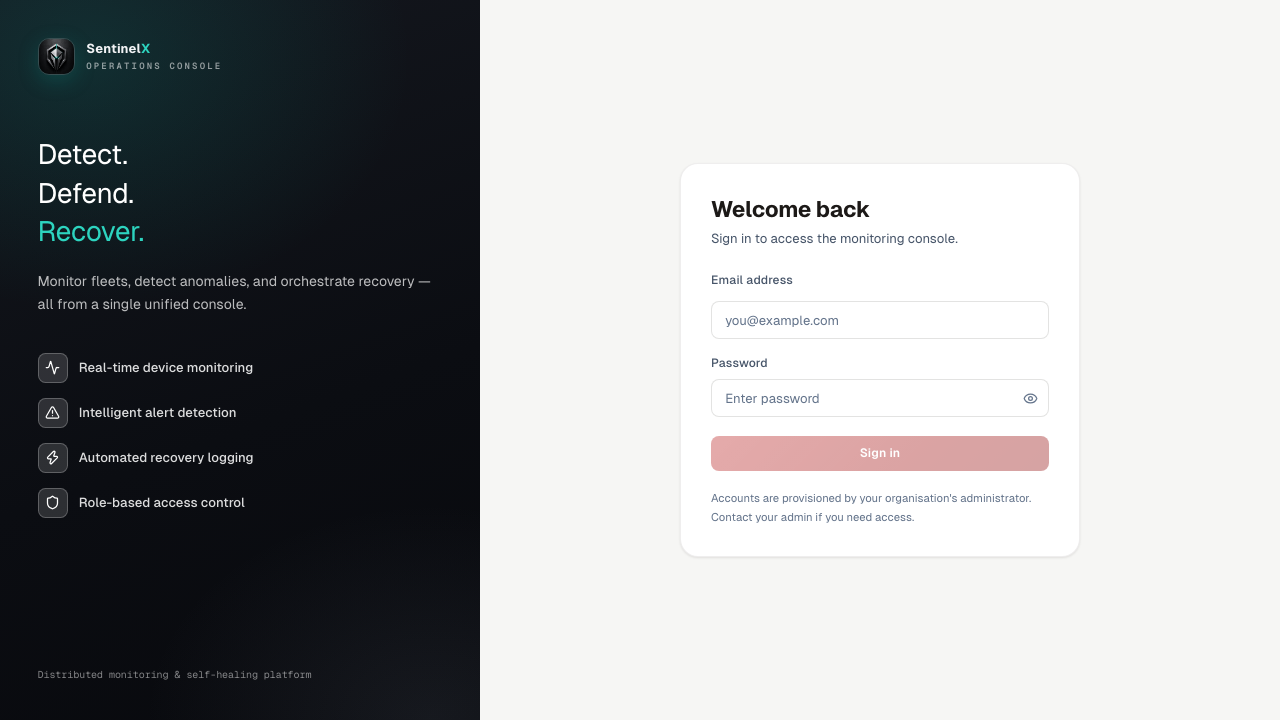
Test case: failure states › shows the server's reason for a rejected sign-in
Step 1. Type "ops@technova.io" into the field labelled "Email address" → coordinates (880, 320), box 711,302 -> 1049,340
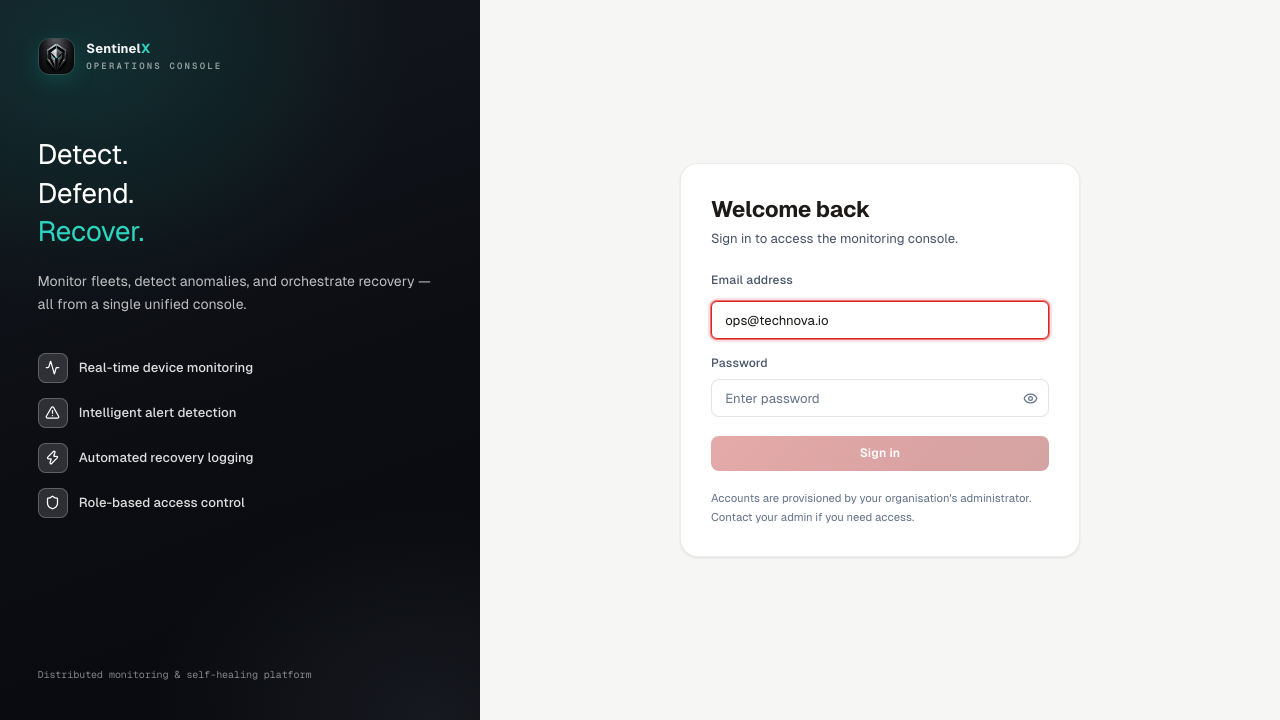
Step 2. Type "WrongPassword1!" into the password field labelled "Password" → coordinates (880, 398), box 711,379 -> 1049,417
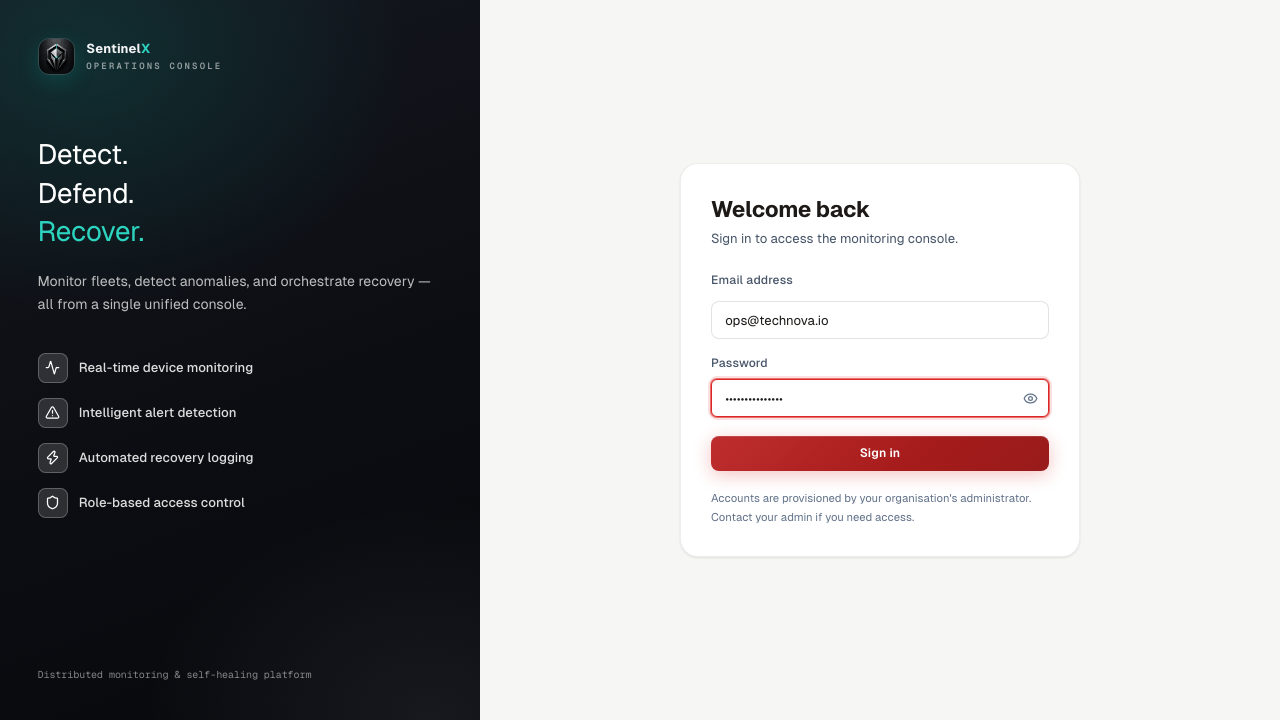
Step 3. Click the button "Sign in" → coordinates (880, 453), box 711,436 -> 1049,470
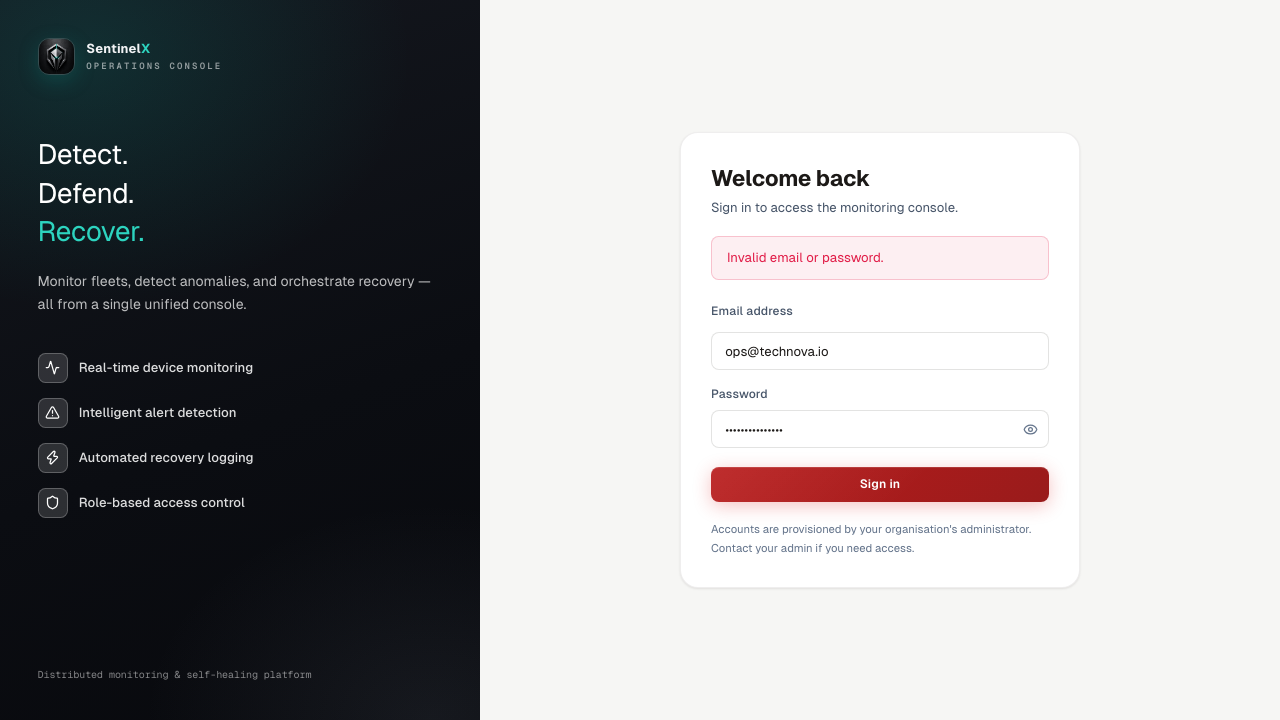
Expected: the text "Invalid email or password." is shown, 711,236 -> 1049,280
